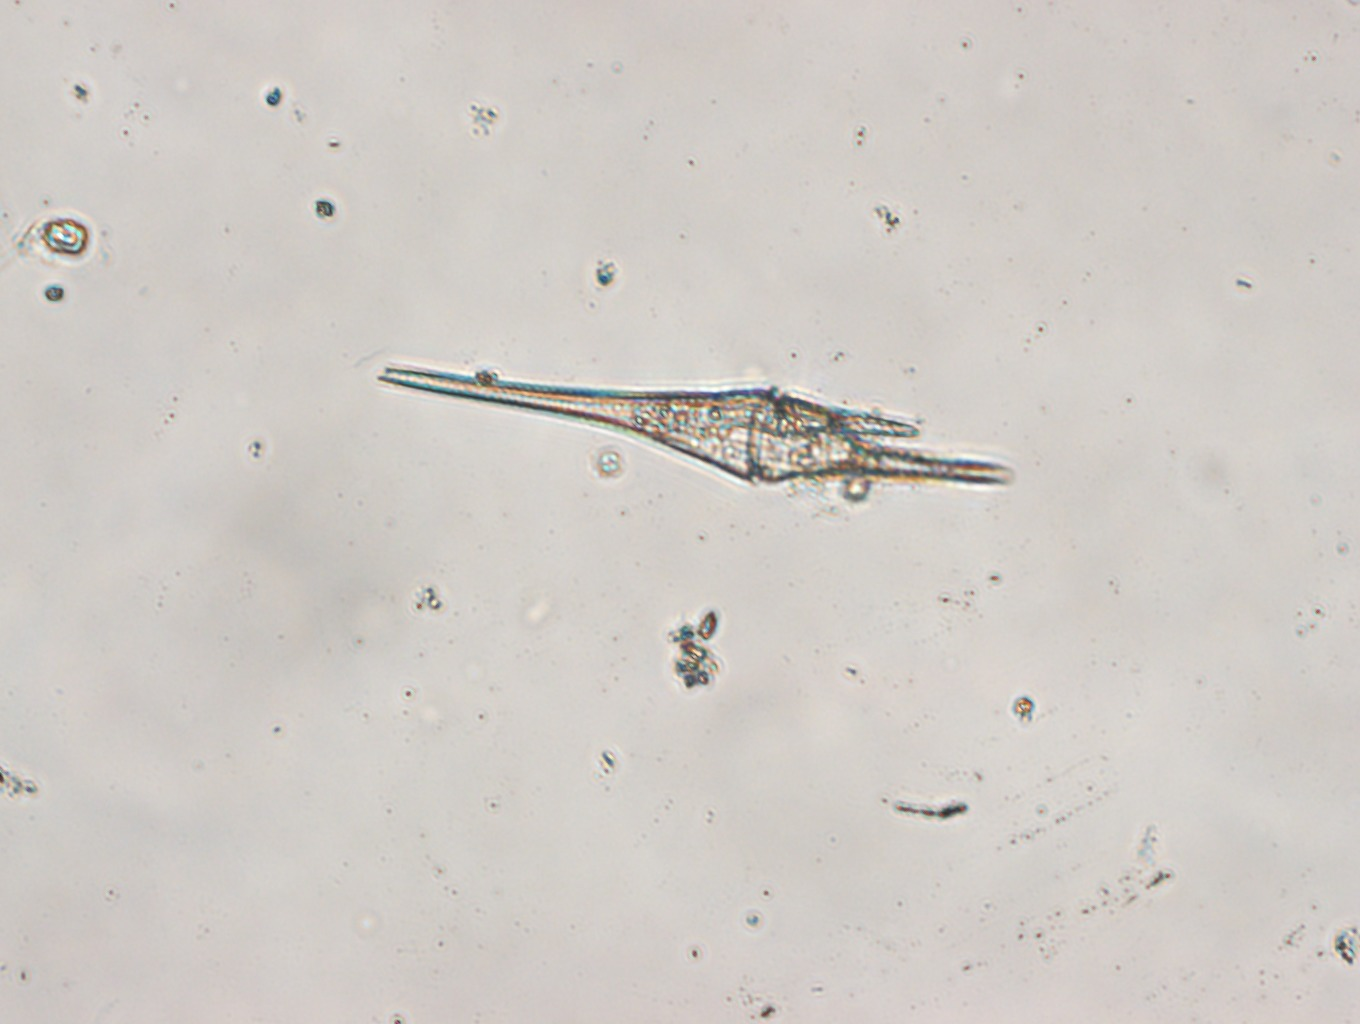ceratium furca: (371, 357, 1015, 494)
